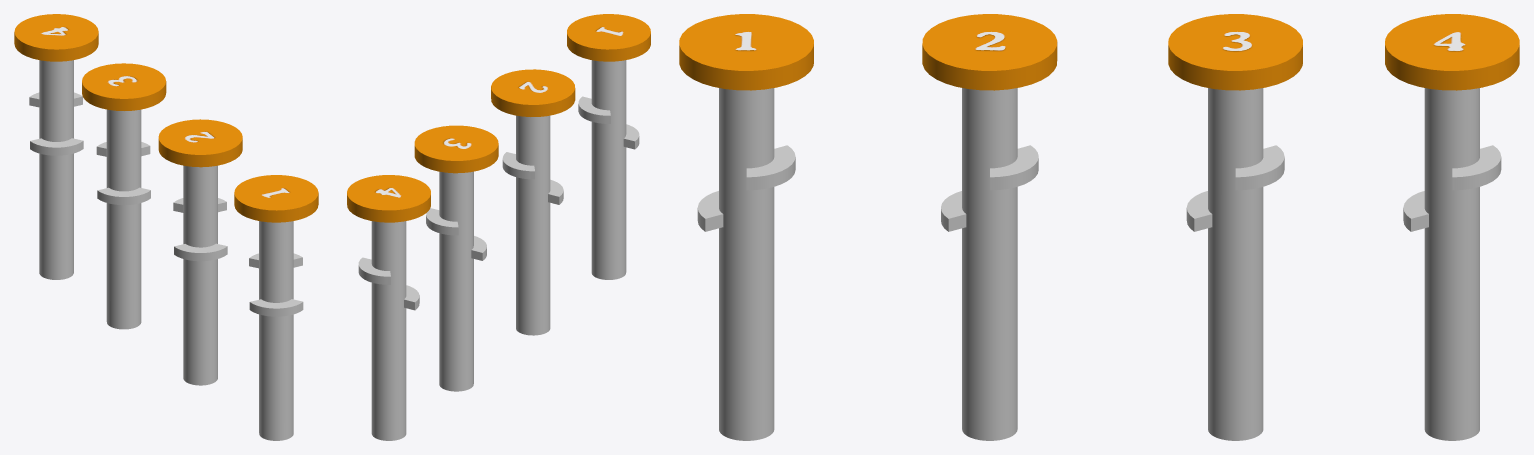
File: MapCylinders.fbx
3 views of the same model, side by side, from view 1: azimuth 30°, elevation 25°; view 2: azimuth 150°, elevation 25°; view 3: azimuth 270°, elevation 25° (orthographic). The views are drawn at different scales.
Visible parts, largest first — view 1: Cylinder.006, Cylinder.004, Cylinder.008, Cylinder.003, Cylinder.001, Cylinder.007, Cylinder.002, Cylinder.005; view 2: Cylinder.004, Cylinder.008, Cylinder.003, Cylinder.006, Cylinder.005, Cylinder.001, Cylinder.007, Cylinder.002; view 3: Cylinder.004, Cylinder.006, Cylinder.008, Cylinder.003, Cylinder.001, Cylinder.005, Cylinder.007, Cylinder.002.
Boxes of the visible parts, bbox=[...] form: Cylinder.006: bbox=[96, 109, 150, 329]; Cylinder.004: bbox=[249, 221, 303, 440]; Cylinder.008: bbox=[29, 60, 83, 279]; Cylinder.003: bbox=[173, 165, 227, 385]; Cylinder.001: bbox=[158, 119, 242, 167]; Cylinder.007: bbox=[14, 14, 98, 61]; Cylinder.002: bbox=[234, 175, 318, 222]; Cylinder.005: bbox=[82, 63, 166, 110]; Cylinder.004: bbox=[578, 60, 639, 279]; Cylinder.008: bbox=[358, 221, 419, 440]; Cylinder.003: bbox=[502, 115, 563, 335]; Cylinder.006: bbox=[426, 171, 486, 391]; Cylinder.005: bbox=[414, 125, 498, 173]; Cylinder.001: bbox=[491, 69, 575, 116]; Cylinder.007: bbox=[347, 175, 430, 222]; Cylinder.002: bbox=[567, 14, 650, 61]; Cylinder.004: bbox=[697, 88, 795, 440]; Cylinder.006: bbox=[1186, 88, 1284, 440]; Cylinder.008: bbox=[1403, 88, 1501, 440]; Cylinder.003: bbox=[941, 88, 1038, 440]; Cylinder.001: bbox=[922, 14, 1057, 90]; Cylinder.005: bbox=[1168, 14, 1302, 90]; Cylinder.007: bbox=[1385, 14, 1519, 90]; Cylinder.002: bbox=[679, 14, 813, 90].
Size of the model in its own units: 3.12 by 9.87 by 19.44.
Materials: 2 (1 with a texture image).
